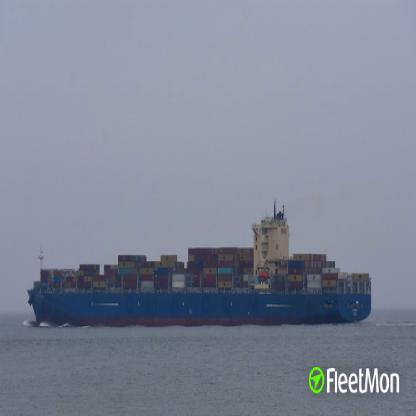Merchant Ship: (27, 200, 371, 327)
